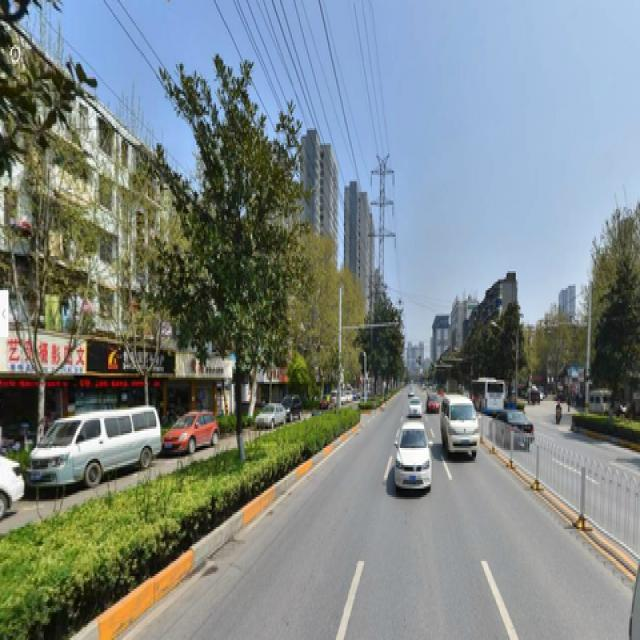magn: (167, 56, 292, 458)
